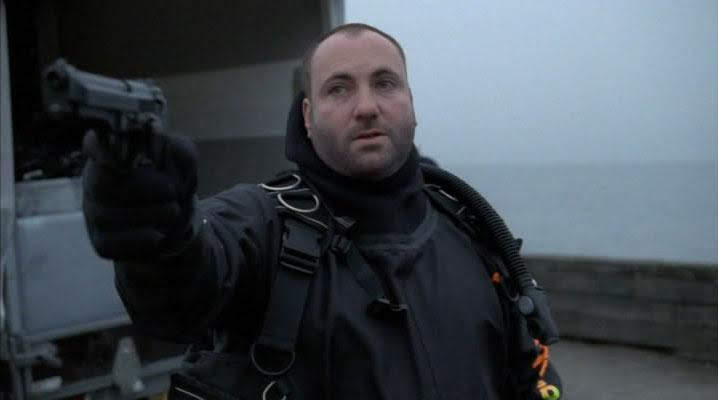gun: (24, 42, 204, 199)
